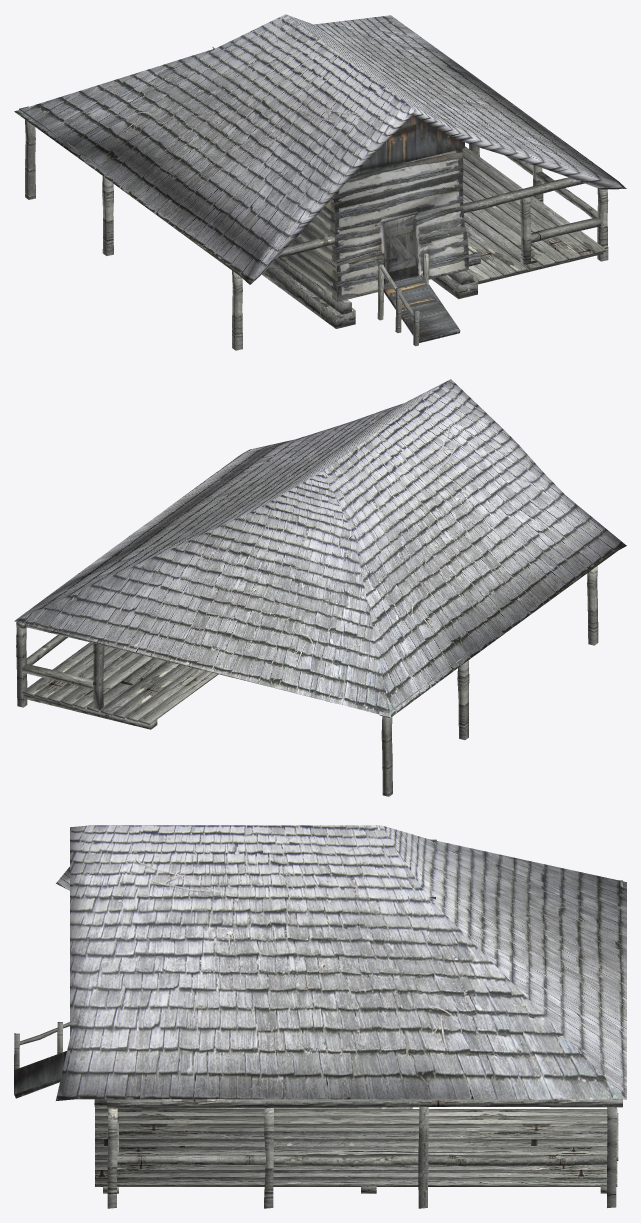
File: wood_cutters_withdoor.fbx
3 renders of one model, top to bottom at view 1: azimuth 30°, elevation 25°; view 2: azimuth 150°, elevation 25°; view 3: azimuth 270°, elevation 25°, orthographic. The views are drawn at different scales.
Visible parts, largest first — view 1: U3DMesh; view 2: U3DMesh; view 3: U3DMesh.
Boxes of the visible parts, x1,y1,x2,y2 form: U3DMesh: (14,14,626,350); U3DMesh: (14,379,626,796); U3DMesh: (14,825,626,1208).
Bounding box in the file's own units: 22.68 × 12.3 × 26.14.
6 materials, 5 textured.
